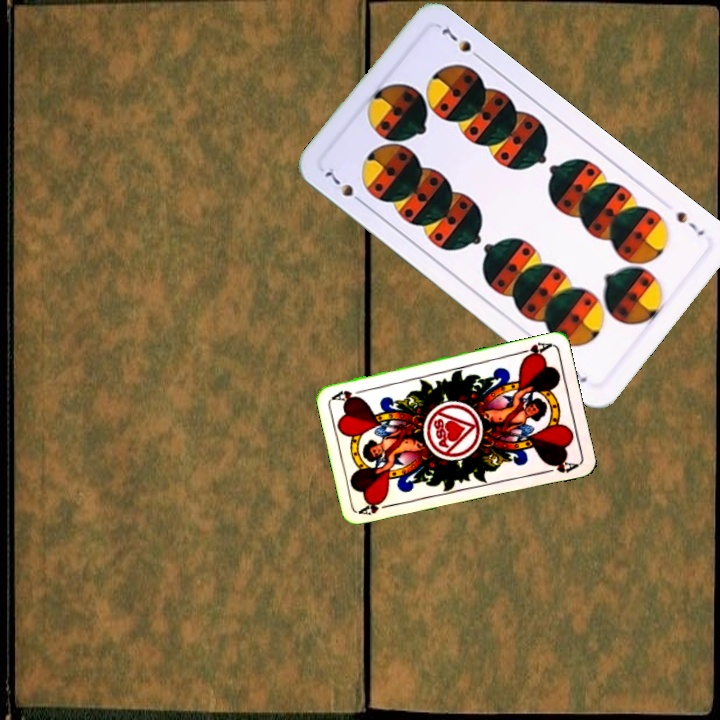HA: (514, 338, 554, 362), (356, 497, 396, 518)
S7: (320, 164, 368, 208), (672, 207, 708, 239)
